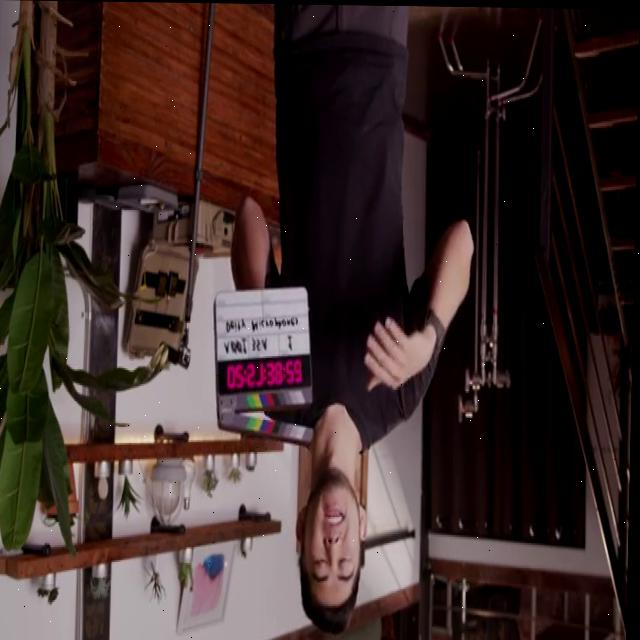Clapperboard: (209, 282, 317, 452)
